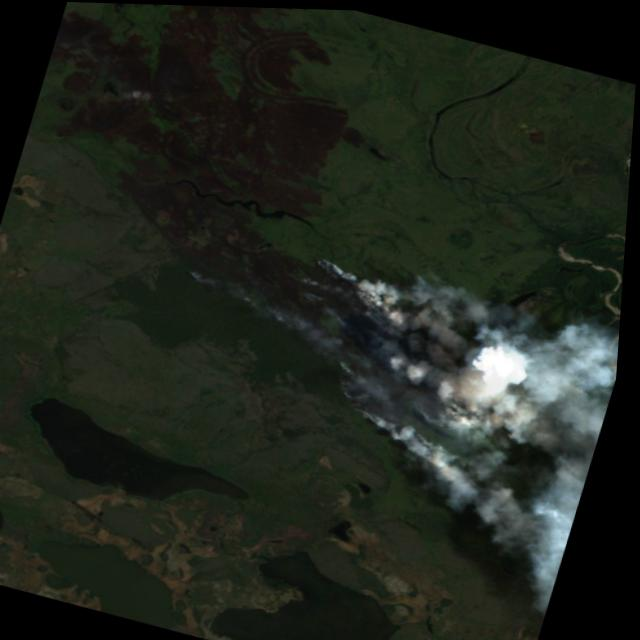fire: (296, 245, 408, 317), (322, 343, 402, 425), (175, 263, 294, 318)
